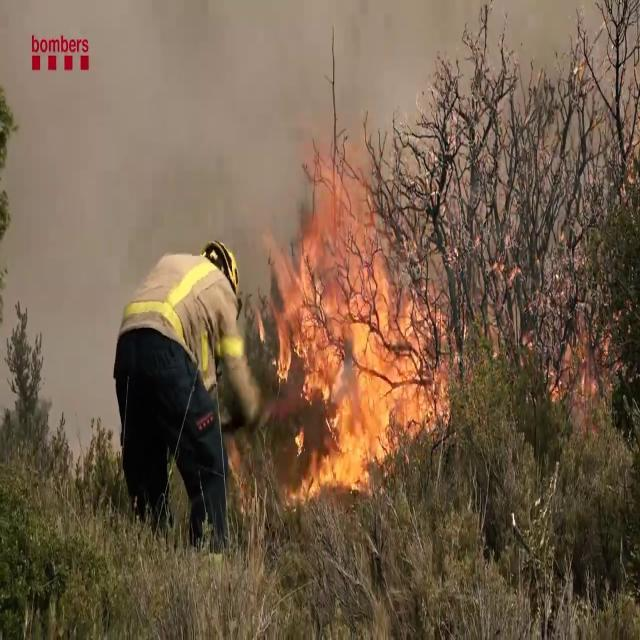Fire: (270, 196, 452, 494)
Smoke: (3, 0, 394, 236)
